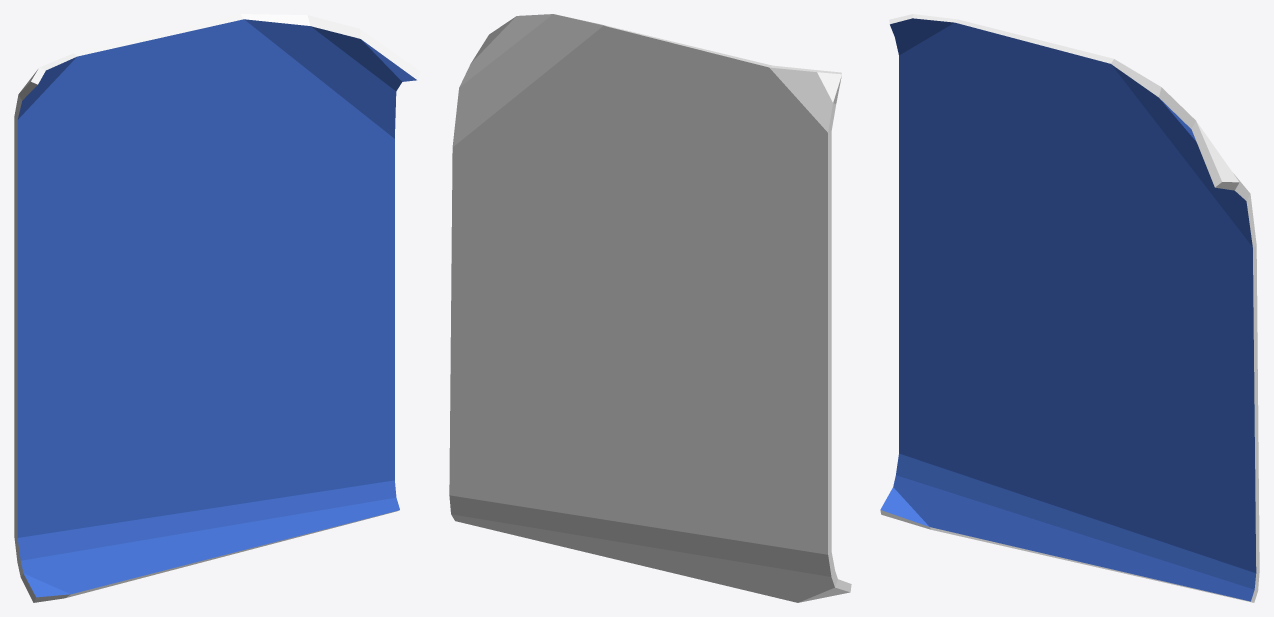
Rendered from SM_poster_02.fbx.
3 renders of one model, left to right at view 1: azimuth 30°, elevation 25°; view 2: azimuth 150°, elevation 25°; view 3: azimuth 330°, elevation 25°, orthographic. The views are drawn at different scales.
Parts seen in each view (by area): view 1: SM_poster_02; view 2: SM_poster_02; view 3: SM_poster_02.
Part boxes in pixels (box(x1,y1,x2,y2)): SM_poster_02: box(14, 14, 420, 602); SM_poster_02: box(449, 14, 851, 602); SM_poster_02: box(880, 14, 1259, 602).
Size of the model in its own units: 85.08 by 115 by 14.65.
